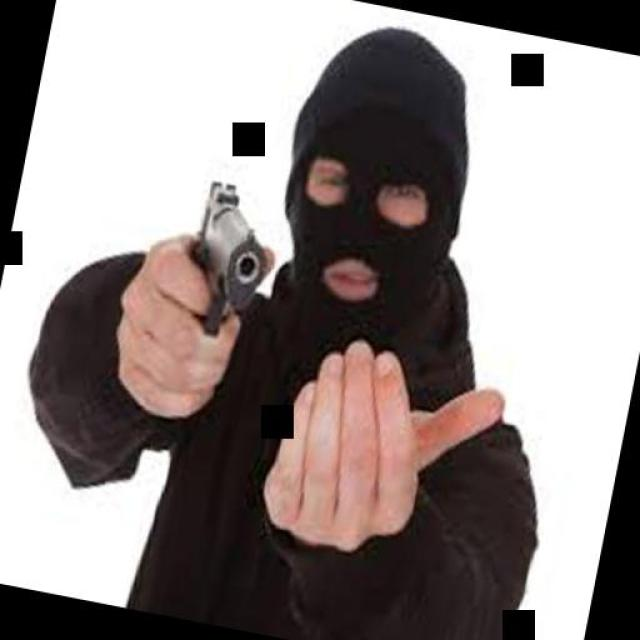gun: (174, 172, 278, 350)
